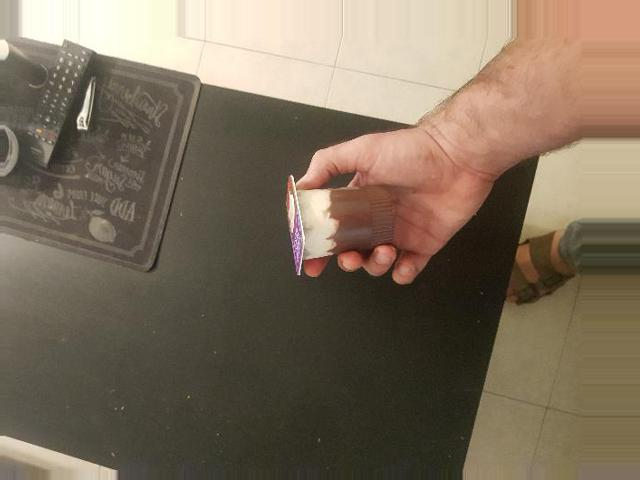milky: (208, 309, 298, 428)
